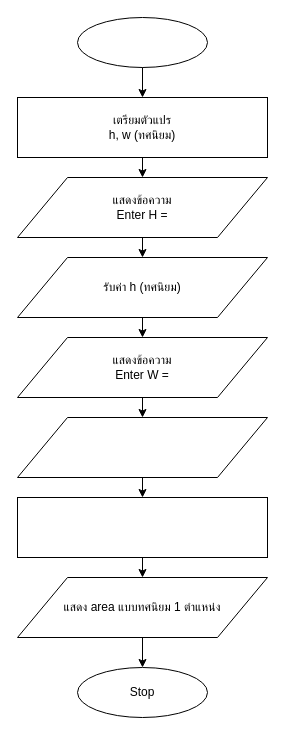
Some shapes in this 285 by 735 pixel diagram are drawn without their labels. Each missing label, with the centre of its shape:
Start: (142,42)
คำนวณผลลัพธ์ area = (h × w) ÷ 2: (142,527)
รับค่า w (ทศนิยม): (142,447)
